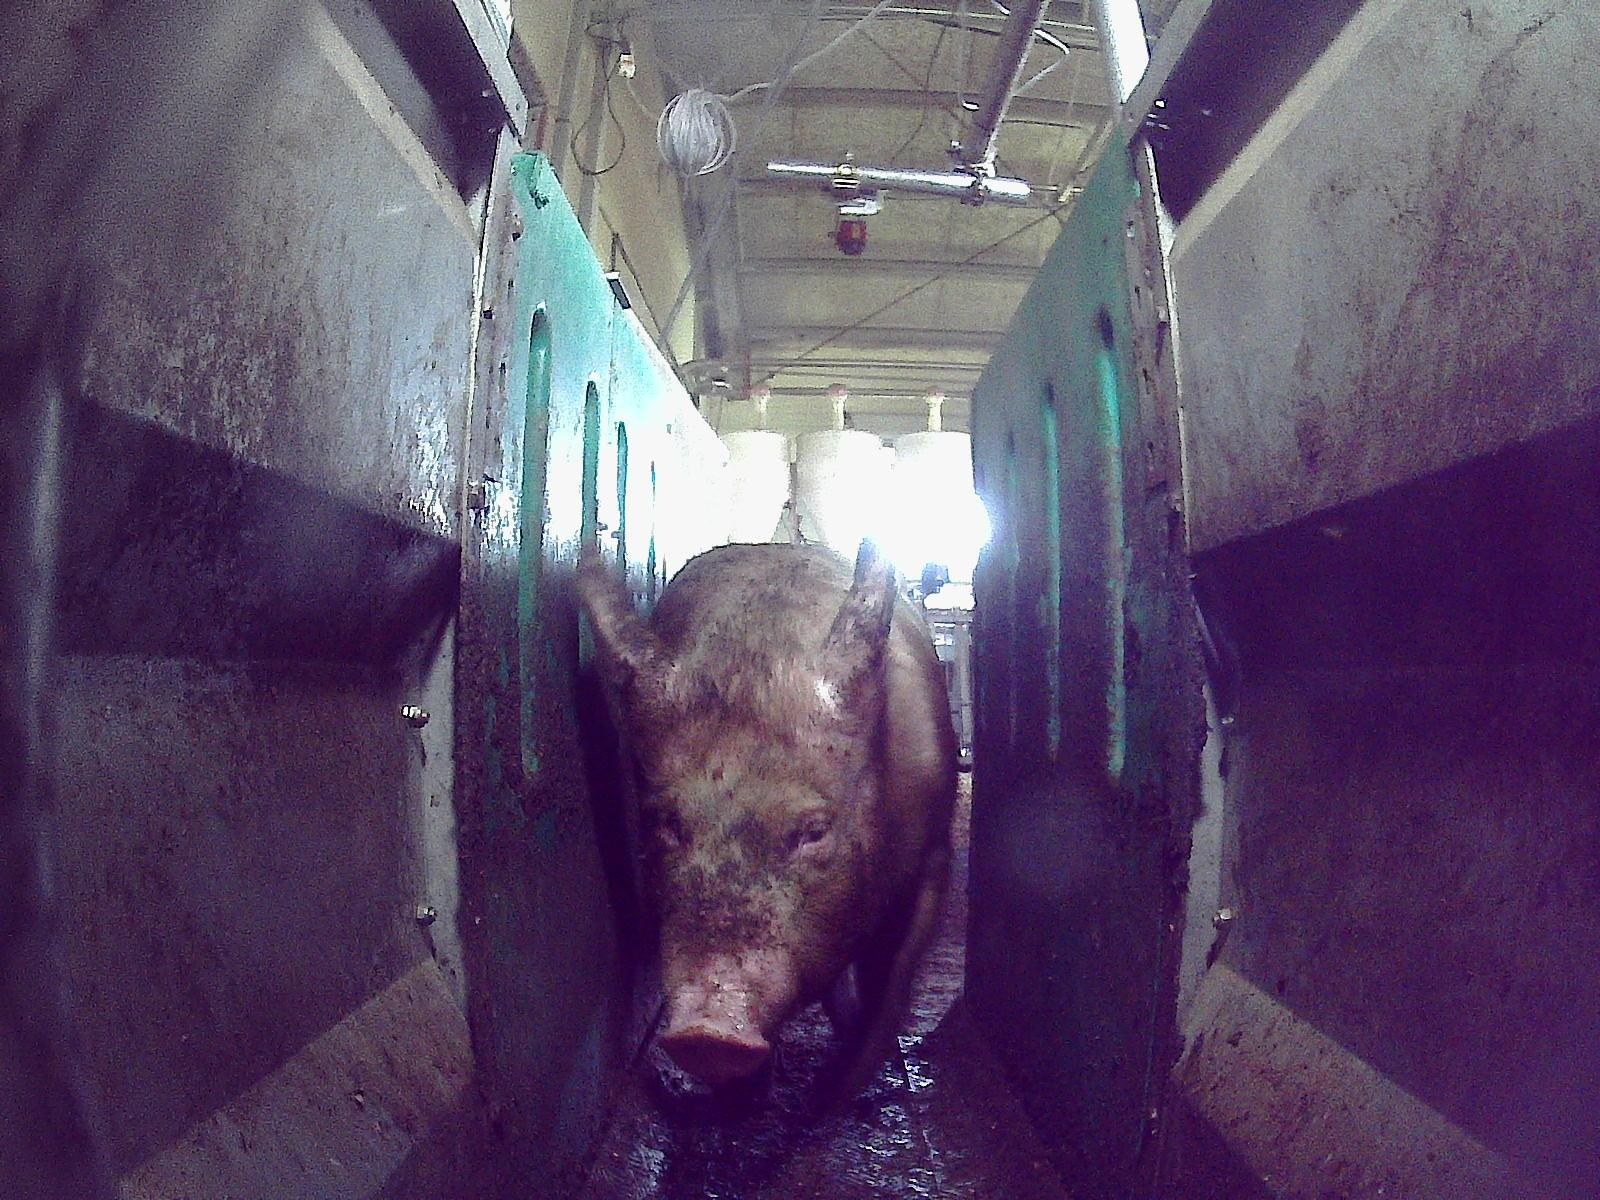Face: (637, 667, 883, 1078)
